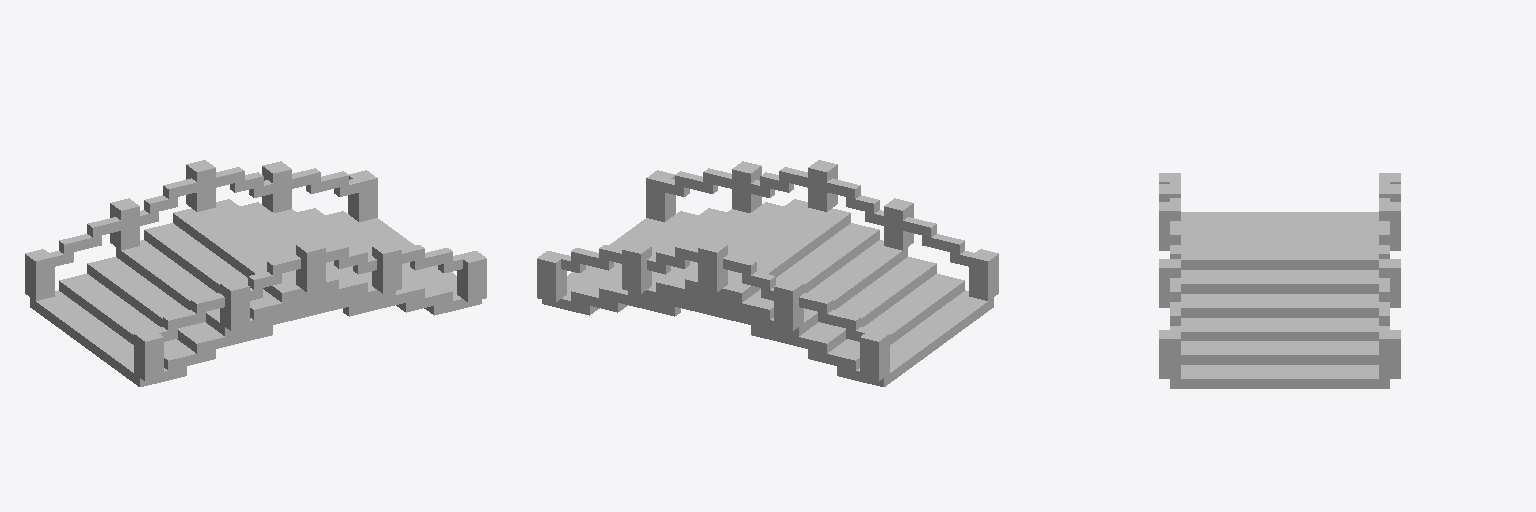
The model's file is bridge.obj.
3 renders of one model, left to right at view 1: azimuth 30°, elevation 25°; view 2: azimuth 150°, elevation 25°; view 3: azimuth 270°, elevation 25°, orthographic.
Parts seen in each view (by area): view 1: object 1; view 2: object 1; view 3: object 1.
Part boxes in pixels (x1,y1,x2,y2): object 1: (25,160,486,386); object 1: (537,160,998,386); object 1: (1159,173,1400,388).
Size of the model in its own units: 3.6 by 1 by 2.2.